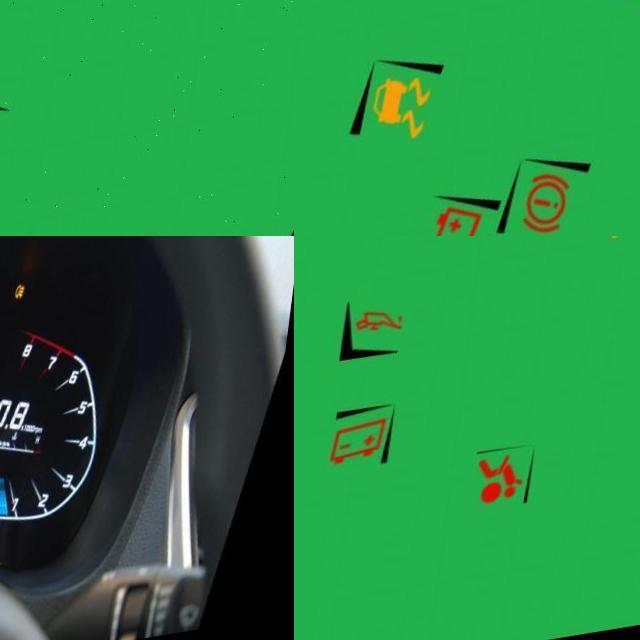Seat Belt: (0, 553, 8, 569)
